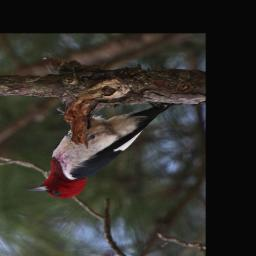Woodpecker: (23, 102, 184, 200)
